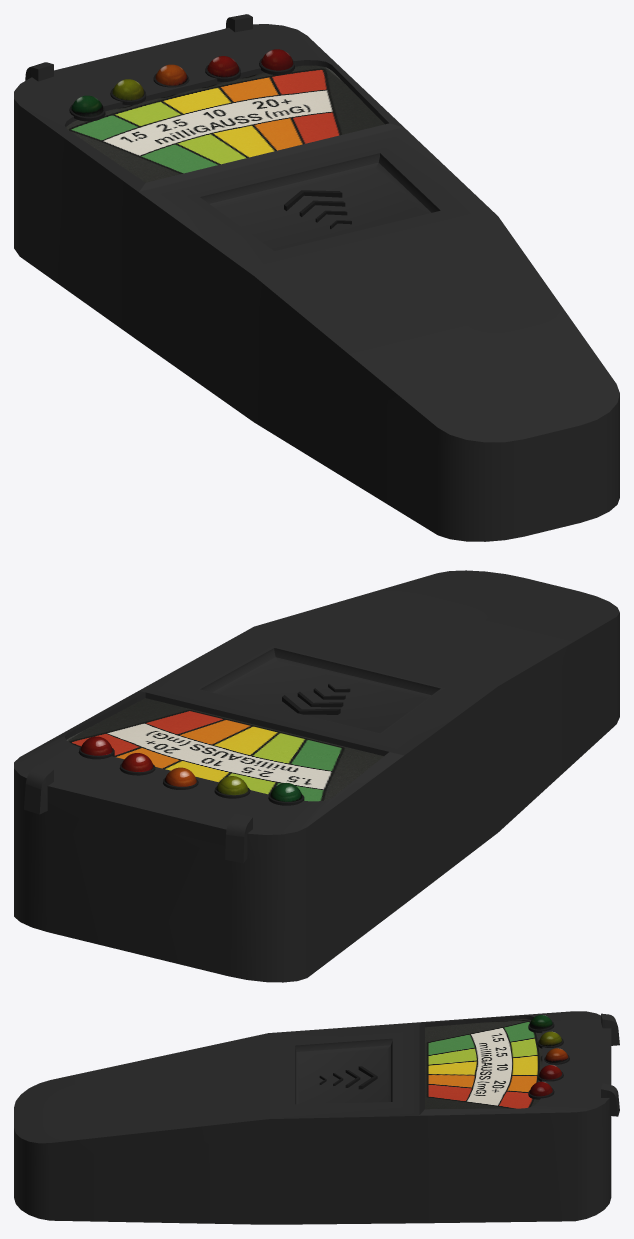
Rendered from UziVicorEMF.fbx.
3 renders of one model, top to bottom at view 1: azimuth 30°, elevation 25°; view 2: azimuth 150°, elevation 25°; view 3: azimuth 270°, elevation 25°, orthographic. The views are drawn at different scales.
Parts seen in each view (by area): view 1: Cube, Cube.001, Sphere, Cube.002; view 2: Cube, Cube.001, Cube.002, Sphere; view 3: Cube, Cube.001, Sphere, Cube.002.
Boxes of the visible parts, bbox=[...] form: Cube: bbox=[14, 14, 619, 541]; Cube.001: bbox=[66, 65, 384, 182]; Sphere: bbox=[69, 58, 294, 121]; Cube.002: bbox=[284, 190, 351, 228]; Cube: bbox=[14, 570, 619, 982]; Cube.001: bbox=[66, 698, 383, 801]; Cube.002: bbox=[282, 684, 350, 714]; Sphere: bbox=[78, 747, 304, 805]; Cube: bbox=[14, 1011, 619, 1224]; Cube.001: bbox=[425, 1019, 542, 1109]; Sphere: bbox=[528, 1021, 569, 1099]; Cube.002: bbox=[319, 1066, 377, 1089].
Size of the model in its own units: 210 by 134 by 532.
4 materials, 2 textured.
